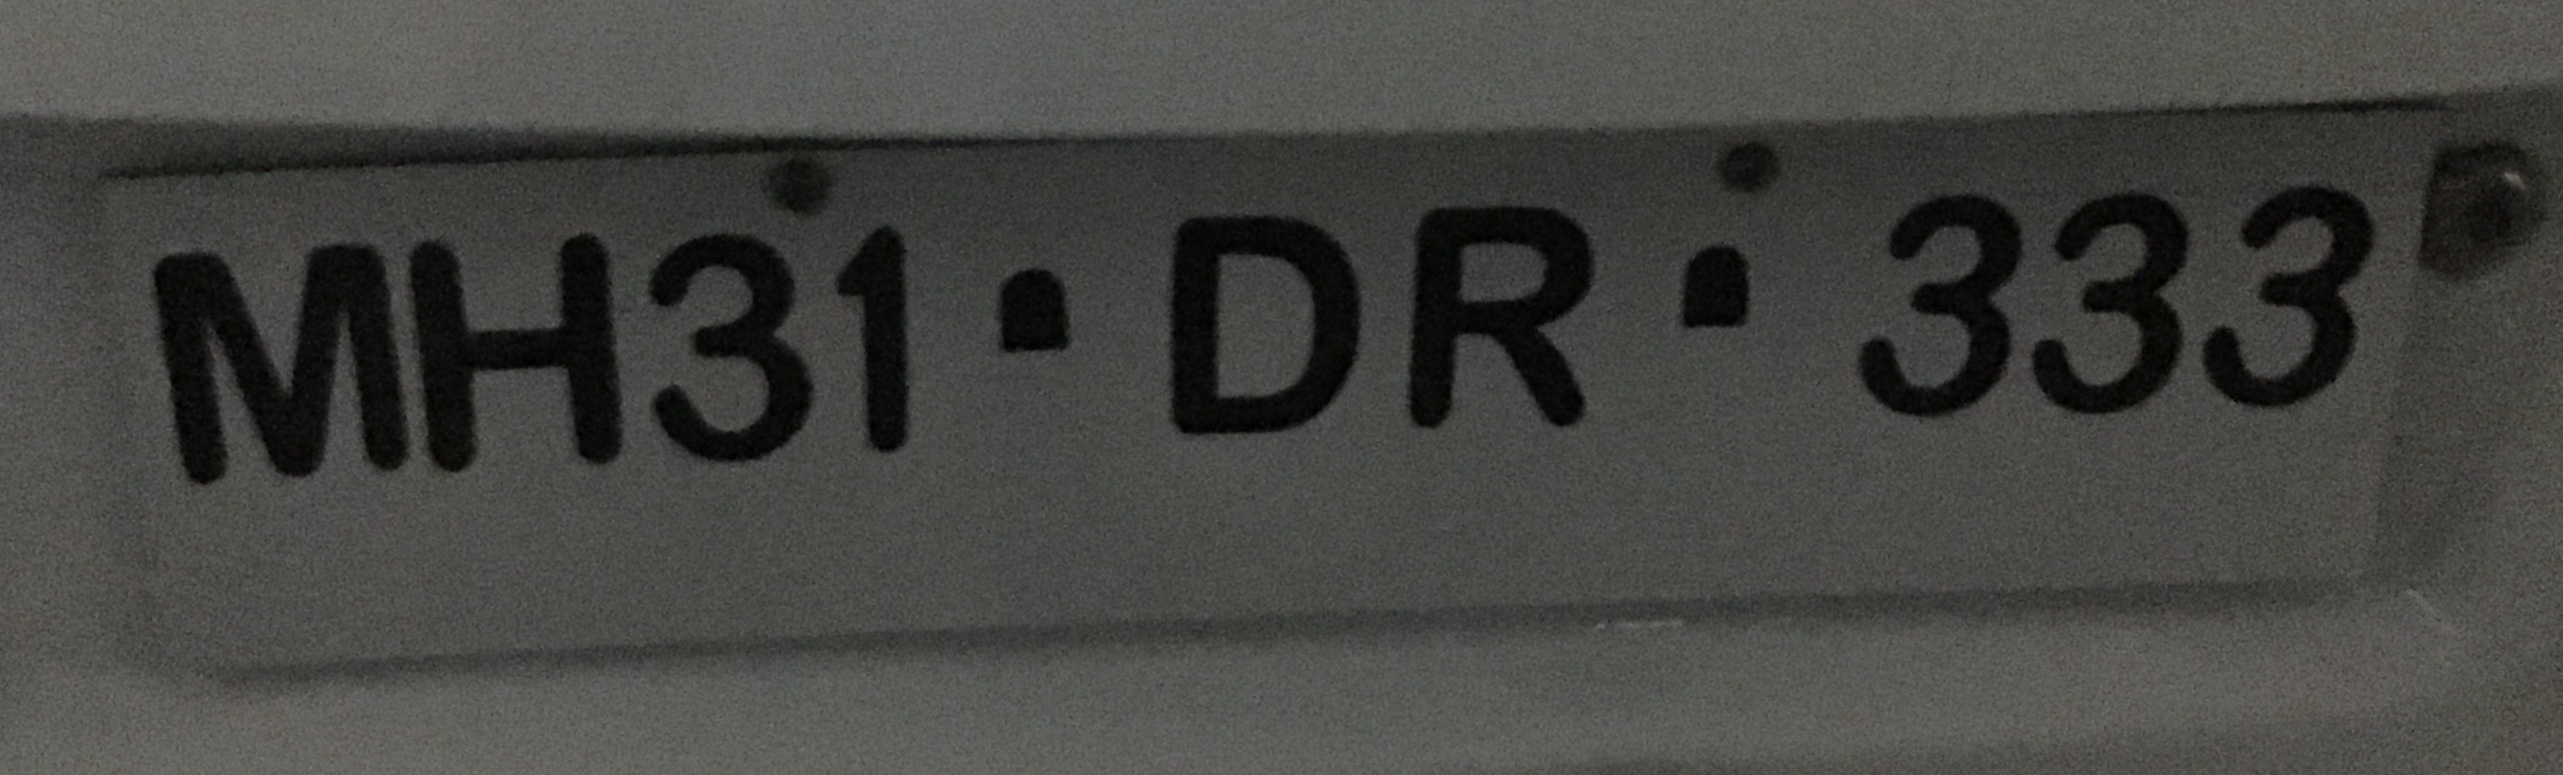numberplate: (77, 124, 2436, 676)
